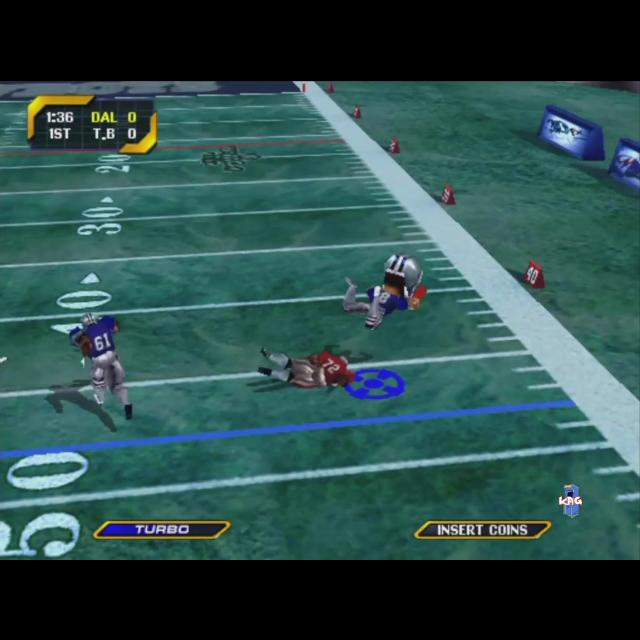player: (68, 311, 132, 419), (342, 254, 426, 328), (258, 345, 356, 387)
